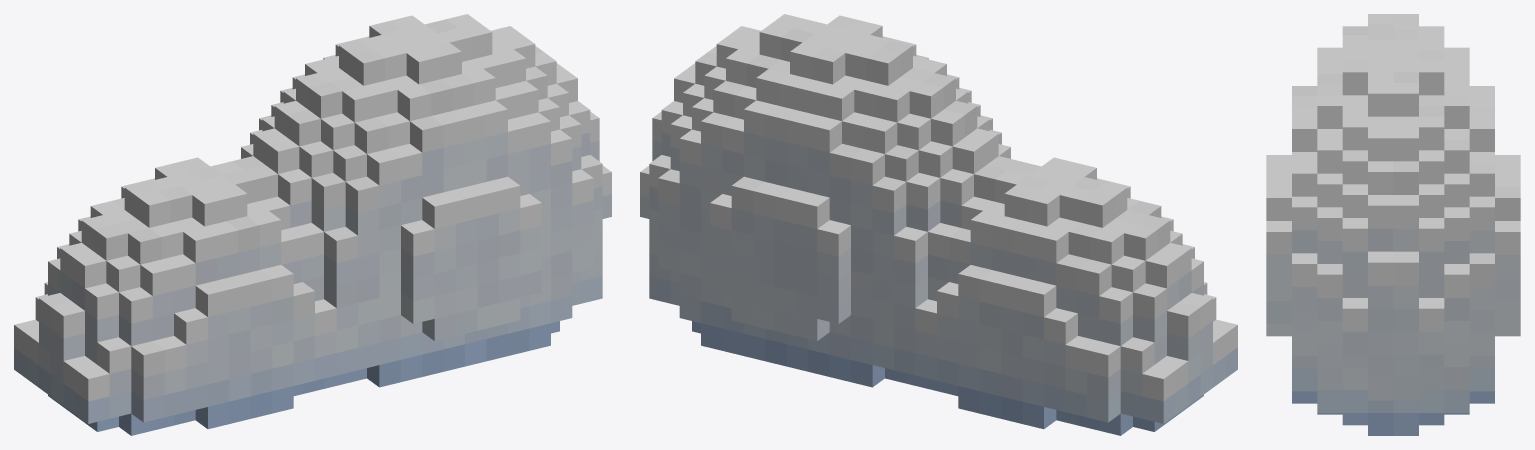
The model's file is cloud_voxel_c.glb.
3 renders of one model, left to right at view 1: azimuth 30°, elevation 25°; view 2: azimuth 150°, elevation 25°; view 3: azimuth 270°, elevation 25°, orthographic. The views are drawn at different scales.
Parts seen in each view (by area): view 1: Cloud.001; view 2: Cloud.001; view 3: Cloud.001.
Part boxes in pixels (left/top/right/bottom): Cloud.001: left=14, top=14, right=611, bottom=435; Cloud.001: left=640, top=14, right=1237, bottom=435; Cloud.001: left=1266, top=14, right=1520, bottom=435.
Bounding box in the file's own units: 1 × 0.52 × 0.4.
